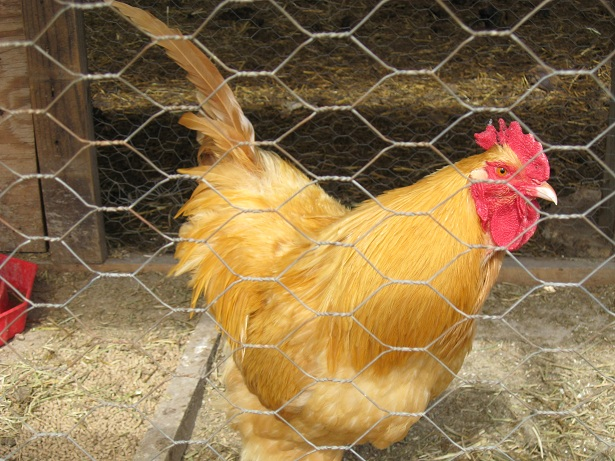buff: (280, 117, 572, 365)
